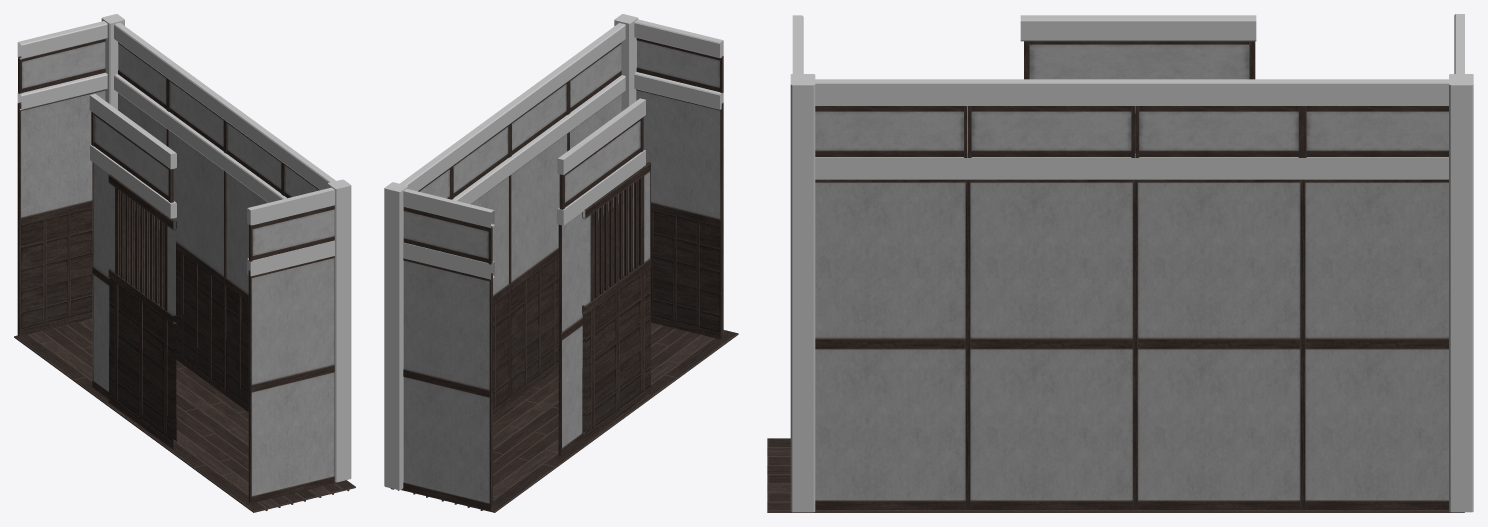
Rendered from 1-3_Builds.fbx.
The picture shows the model from 3 angles, left to right: view 1: azimuth 30°, elevation 25°; view 2: azimuth 150°, elevation 25°; view 3: azimuth 270°, elevation 25°; orthographic projection. The views are drawn at different scales.
Parts seen in each view (by area): view 1: 1-3_Builds; view 2: 1-3_Builds; view 3: 1-3_Builds.
Part boxes in pixels (box(x1,y1,x2,y2)): 1-3_Builds: box(14, 14, 355, 512); 1-3_Builds: box(384, 14, 738, 512); 1-3_Builds: box(767, 14, 1473, 512).
Size of the model in its own units: 1.25 by 3.33 by 4.94.
